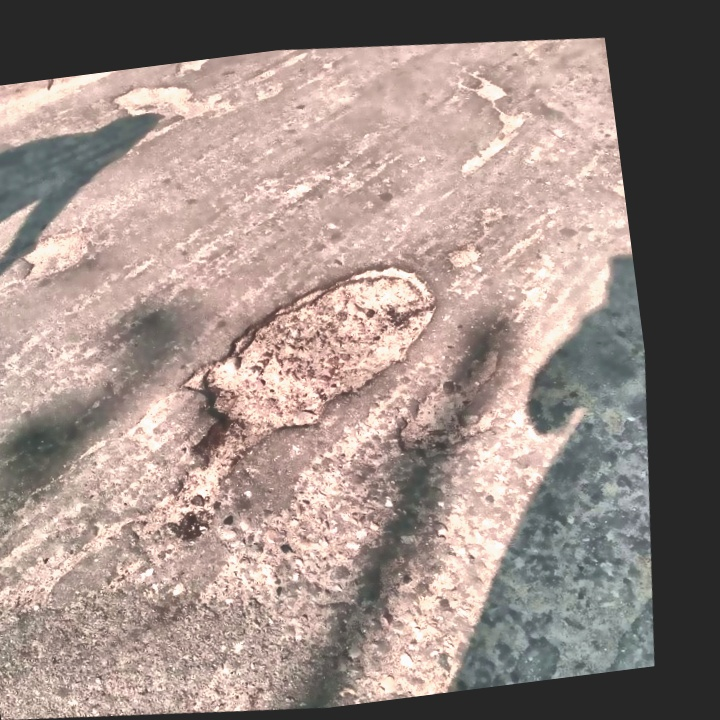pothole: (137, 235, 465, 528), (382, 332, 519, 467), (434, 63, 540, 184), (7, 217, 104, 290), (107, 73, 212, 137), (441, 238, 486, 273), (174, 59, 212, 79)
